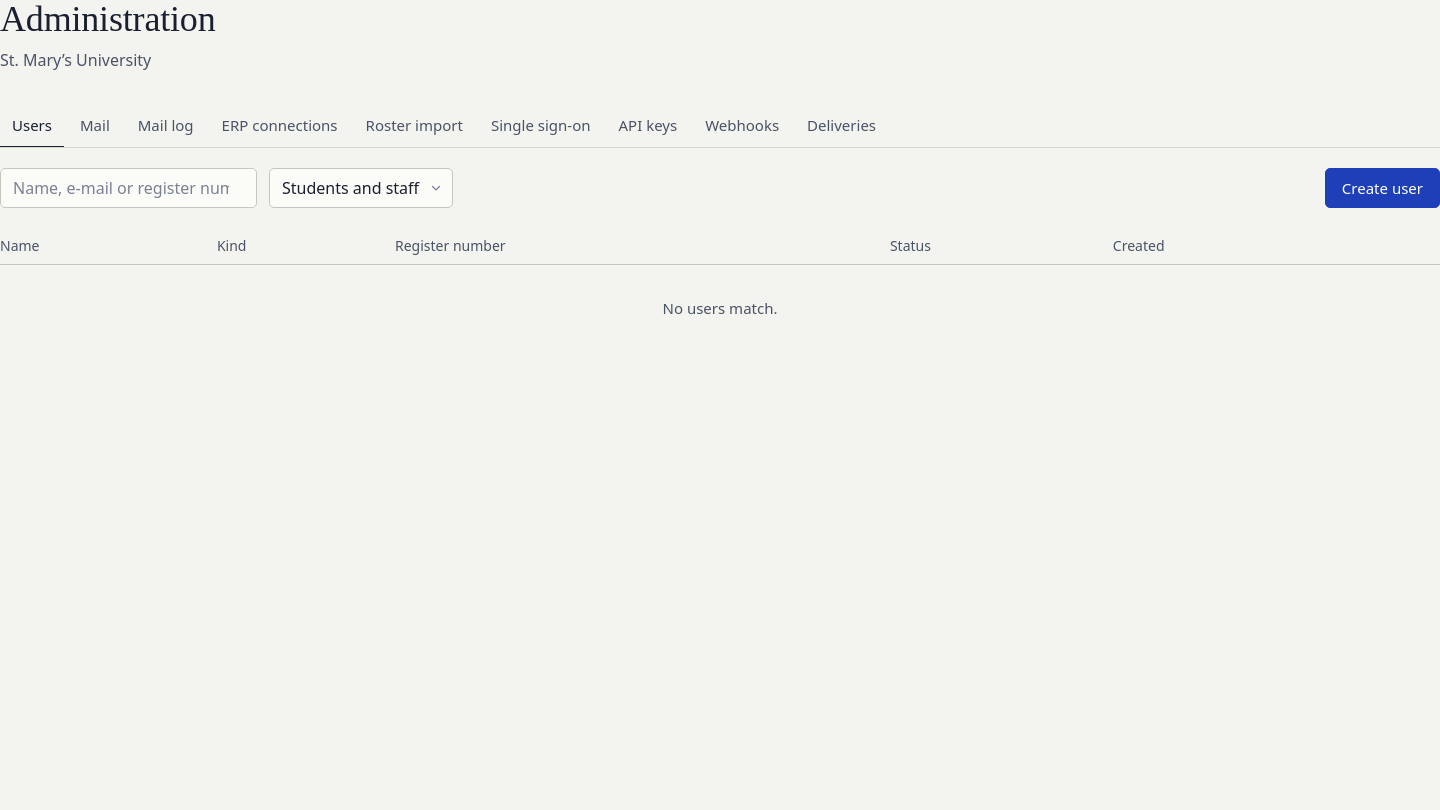
it: Phase 7: ERP Adapters, XLSX Import & Mail Completeness UI › renders Mail Health metrics and Reconcile Bounce action in Mail Log
Click the tab "Mail log". click: [166, 126]
box: [126, 104, 206, 148]
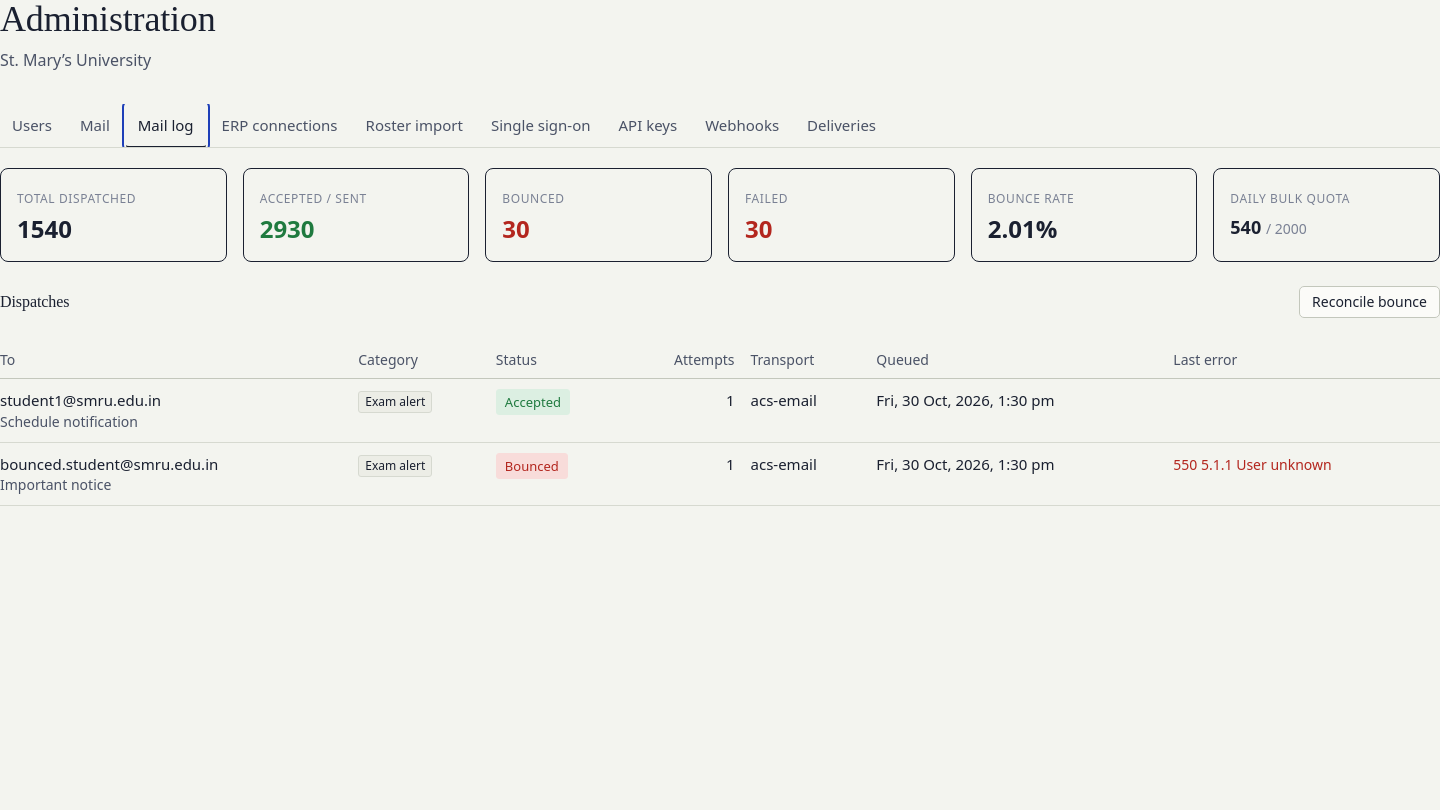
Check: the text "1540" is shown, box [17, 212, 72, 245]
Check: the text "2.01%" is shown, box [988, 212, 1057, 245]
Check: the text "Daily Bulk Quota" is shown, box [1230, 190, 1350, 207]
Click the button "Reconcile bounce". click: [1370, 302]
box: [1299, 286, 1439, 318]
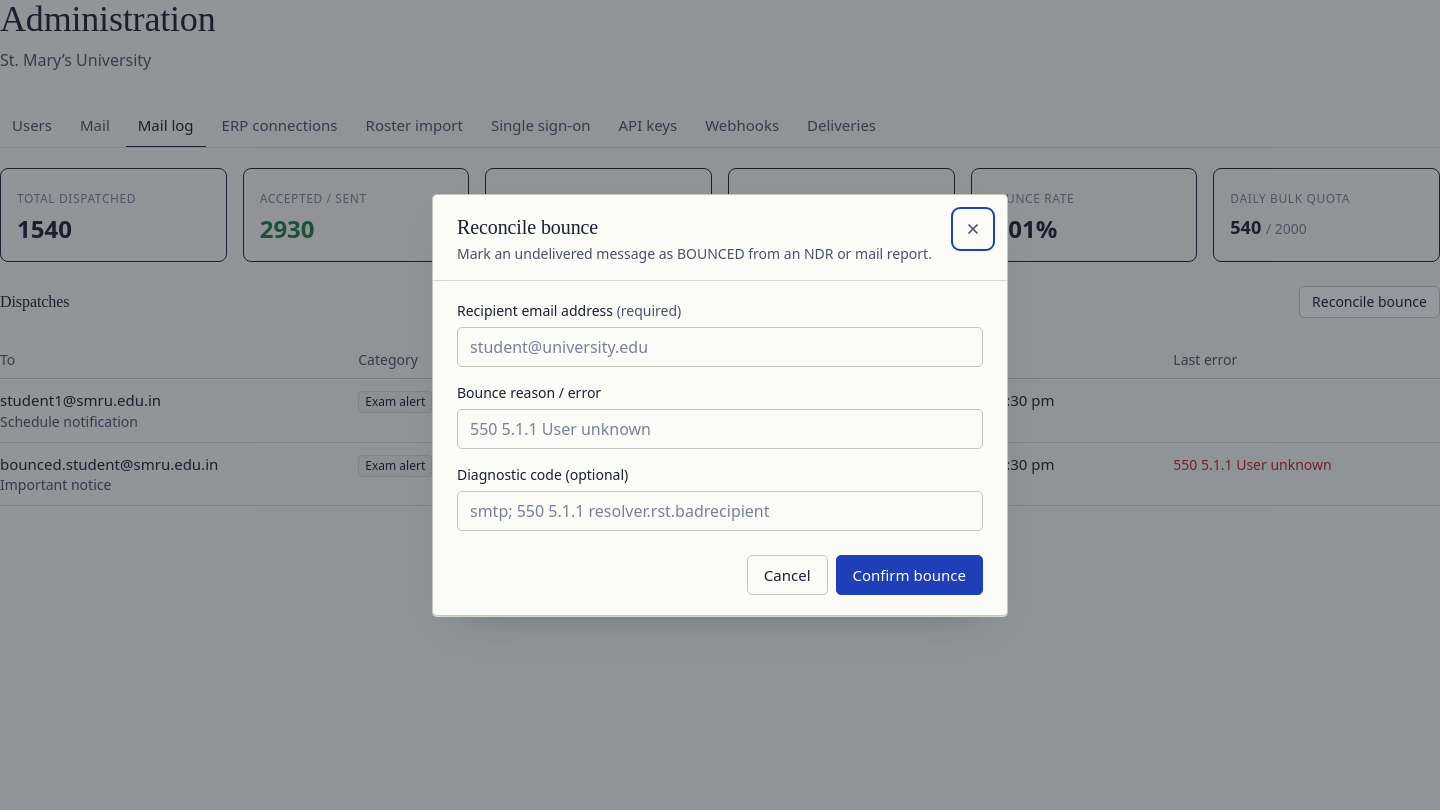
Check: the text "Mark an undelivered message as BOUNCED from an NDR or mail report." is shown, box [457, 244, 939, 264]
